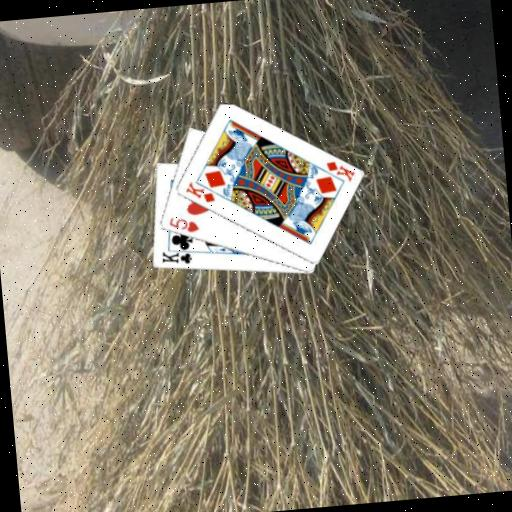5H: (166, 212, 201, 236)
KC: (158, 244, 197, 268)
KD: (182, 177, 217, 206), (323, 156, 357, 185)
